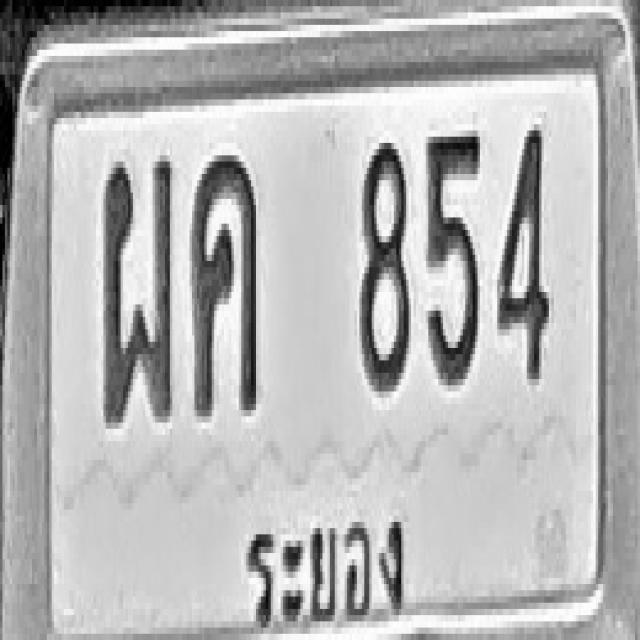13KhorKhwai: (191, 149, 257, 416)
37PhorPhueng: (102, 156, 174, 422)
4: (497, 121, 549, 382)
5: (426, 128, 480, 388)
8: (359, 136, 408, 392)
Rayong: (236, 497, 411, 640)
